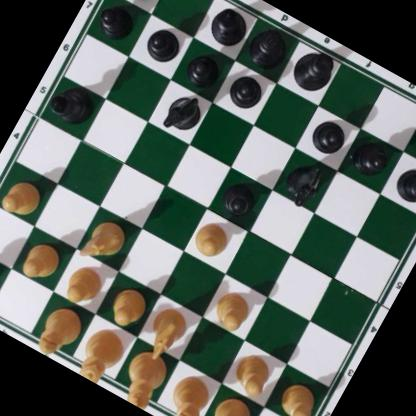black-bishop: (44, 77, 101, 131), (203, 0, 255, 50)
black-king: (286, 41, 343, 100)
black-knight: (279, 154, 330, 209), (160, 87, 207, 136)
black-pawn: (224, 65, 269, 113), (308, 112, 353, 158), (218, 175, 263, 221), (350, 136, 394, 181), (182, 47, 225, 92), (141, 22, 184, 67), (94, 0, 140, 42), (391, 161, 416, 209)
black-queen: (244, 19, 296, 72)
black-rook: (110, 0, 171, 4), (413, 108, 416, 169)
white-bishop: (28, 297, 91, 366), (157, 369, 217, 416)
white-king: (113, 342, 177, 413)
white-knight: (136, 301, 195, 367), (78, 211, 131, 268)
white-pawn: (227, 346, 280, 400), (208, 284, 256, 334), (104, 281, 152, 330), (17, 234, 65, 283), (60, 260, 108, 309), (0, 173, 47, 222), (188, 215, 234, 261), (274, 376, 324, 416)
white-queen: (70, 321, 131, 388)
white-rook: (199, 394, 262, 416), (0, 249, 1, 315)
